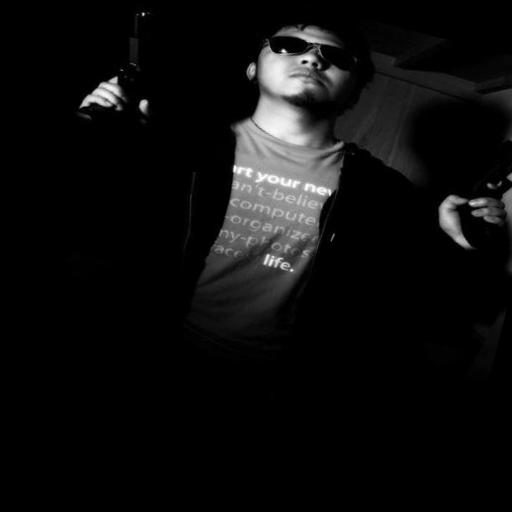Handgun: (94, 0, 184, 119), (436, 124, 512, 252)
